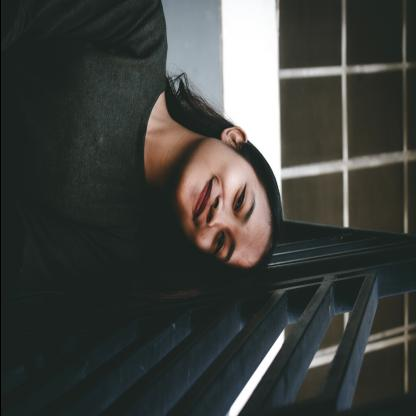Eye: (231, 183, 247, 214), (209, 230, 227, 257)
Mouth: (192, 174, 214, 222)
Nose: (205, 195, 232, 230)
